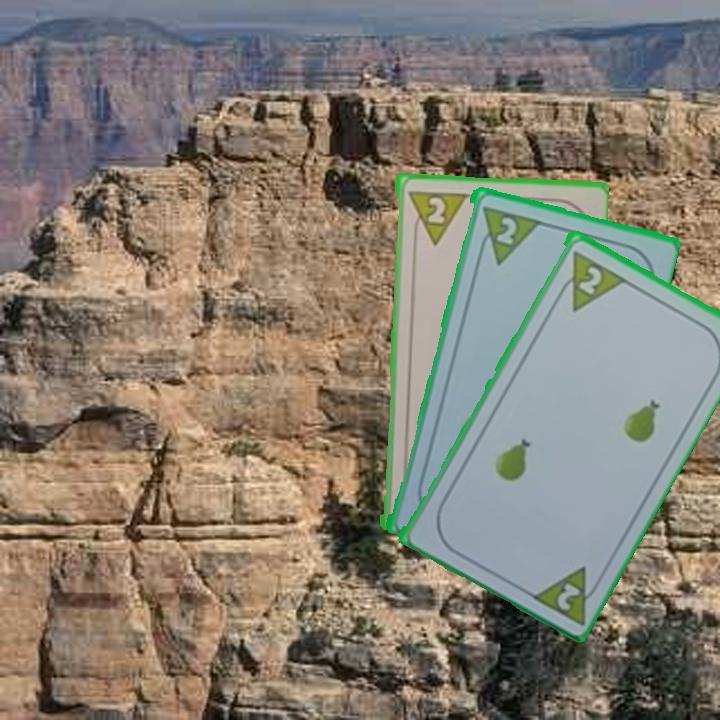2p: (404, 187, 467, 247), (574, 262, 605, 297), (552, 578, 583, 613), (492, 212, 520, 247)
